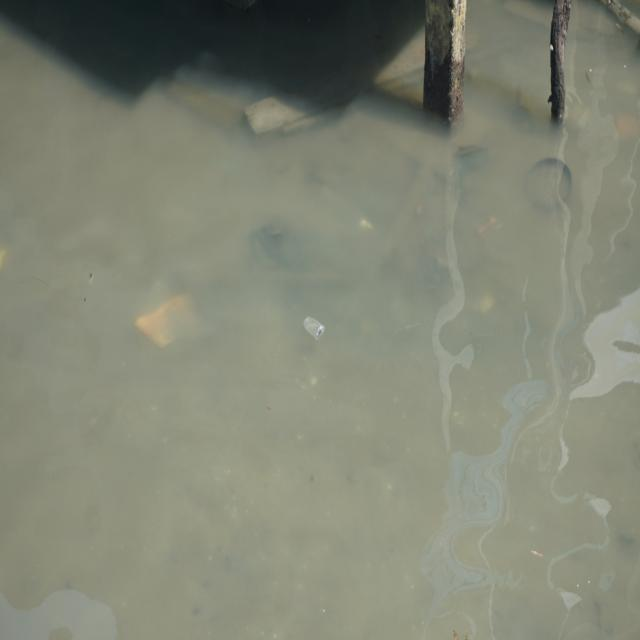Bungkus Minuman: (303, 311, 328, 346)
